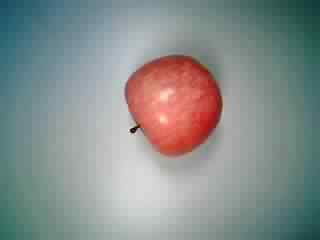apple: (120, 53, 226, 157)
